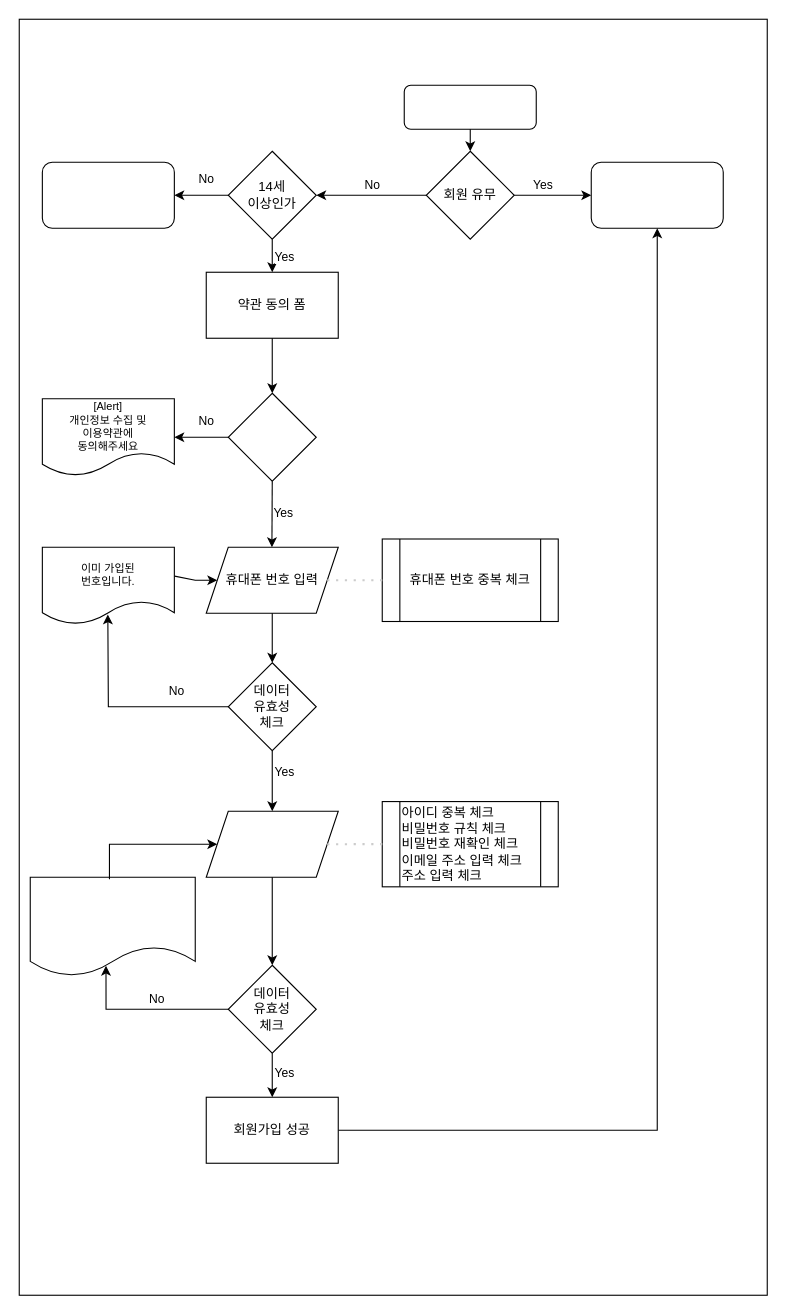
This 787x1315 diagram has some shape labels left out. The shapes that lost their labels are listed below. From the top down, each one's box as (x1, y1, x2, y2) in pixels, then its label:
(403, 84, 536, 129): 회원가입 Flow Chart
(41, 161, 174, 228): 메인화면 복귀 (회원가입 불가)
(590, 161, 723, 228): 로그인 폼
(227, 392, 316, 481): 약관 동의
(205, 810, 338, 877): 회원정보 입력
(29, 876, 195, 976): [Alert] 중복된 아이디 입니다. 비밀번호 규칙 오류입니다. 이메일 주소 오류입니다. 주소가 올바르지 않습니다.
